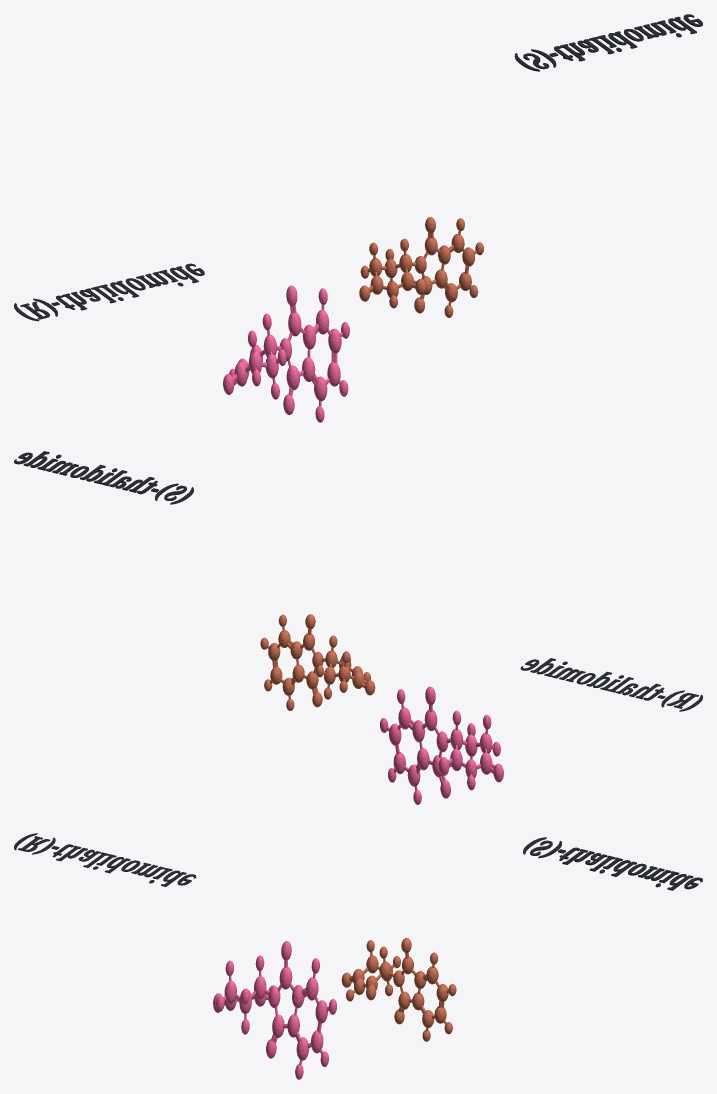
Rendered from tinker1.obj.glb.
The picture shows the model from 3 angles, top to bottom: view 1: azimuth 30°, elevation 25°; view 2: azimuth 150°, elevation 25°; view 3: azimuth 330°, elevation 25°; orthographic projection. The views are drawn at different scales.
Parts seen in each view (by area): view 1: Asset3DLoader.sceneRoot; view 2: Asset3DLoader.sceneRoot; view 3: Asset3DLoader.sceneRoot.
Boxes of the visible parts, x1,y1,x2,y2 form: Asset3DLoader.sceneRoot: (14, 14, 702, 422); Asset3DLoader.sceneRoot: (14, 451, 702, 804); Asset3DLoader.sceneRoot: (14, 833, 702, 1079).
Bounding box in the file's own units: 426 × 168 × 51.34.
